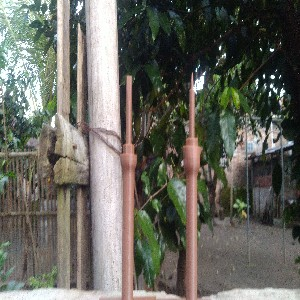obeng: (118, 75, 138, 300)
solder: (181, 71, 204, 300)
